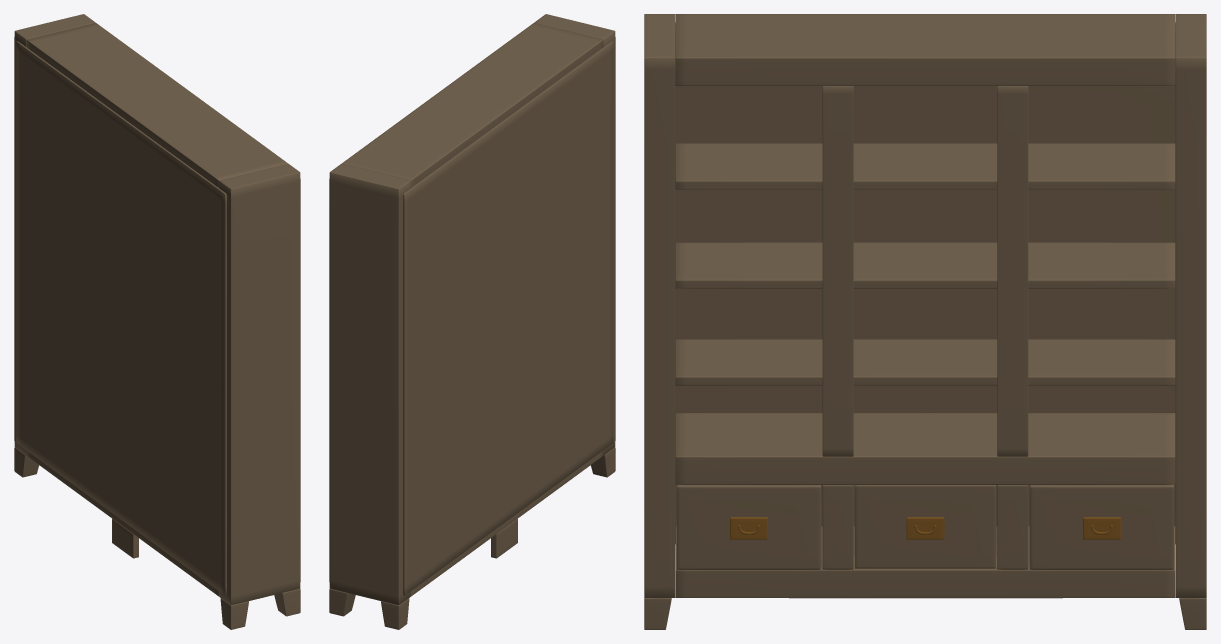
File: bookshelf_hipoly.fbx
3 views of the same model, side by side, from view 1: azimuth 30°, elevation 25°; view 2: azimuth 150°, elevation 25°; view 3: azimuth 270°, elevation 25° (orthographic). The views are drawn at different scales.
Parts seen in each view (by area): view 1: Cube.007; view 2: Cube.007; view 3: Cube.007.
Part boxes in pixels (left/top/right/bottom): Cube.007: left=14, top=14, right=300, bottom=629; Cube.007: left=329, top=14, right=615, bottom=629; Cube.007: left=644, top=14, right=1206, bottom=629.
Size of the model in its own units: 35.61 by 202 by 180.
